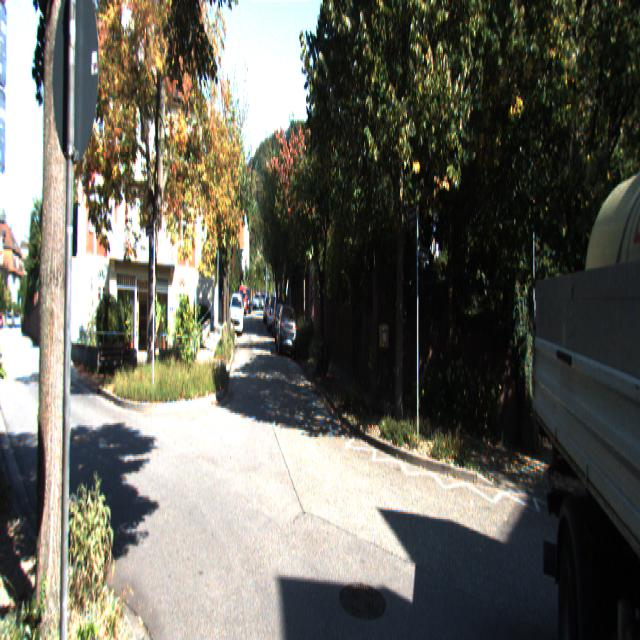Car: (529, 0, 639, 639), (275, 304, 297, 362), (230, 293, 244, 337)
